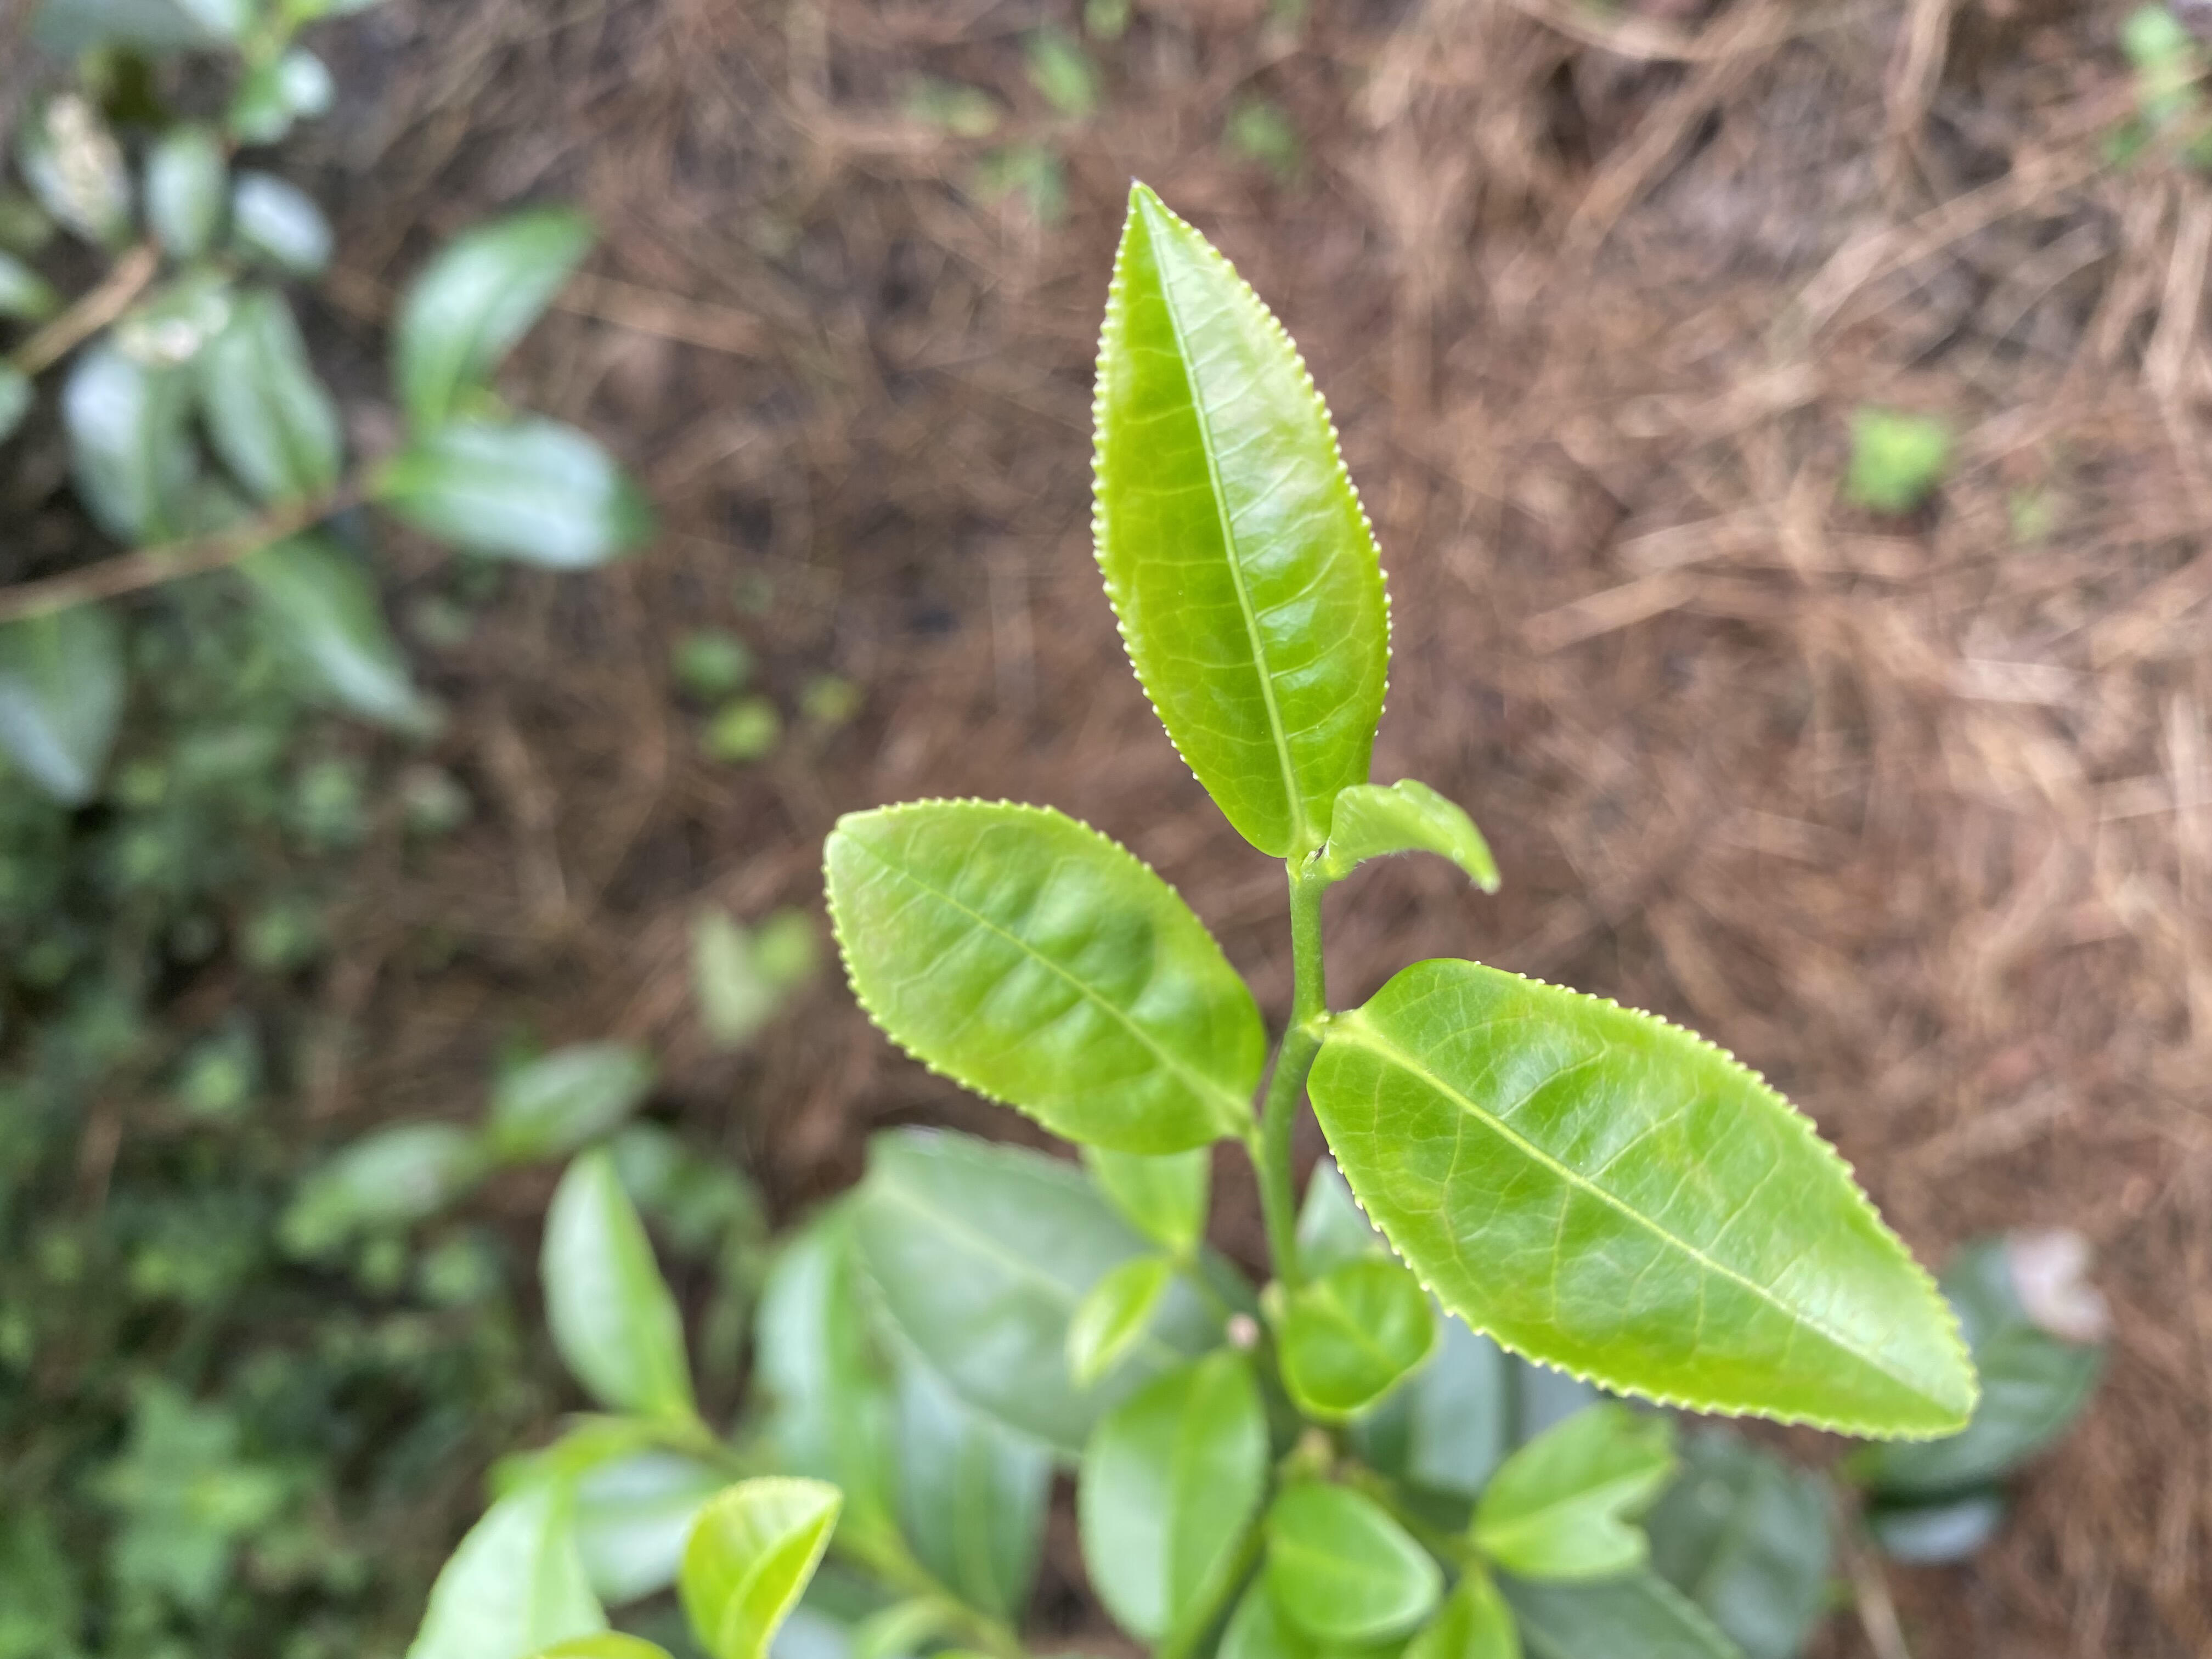healthy: (1306, 957, 1979, 1439), (1085, 179, 1393, 863), (820, 795, 1266, 1157)
